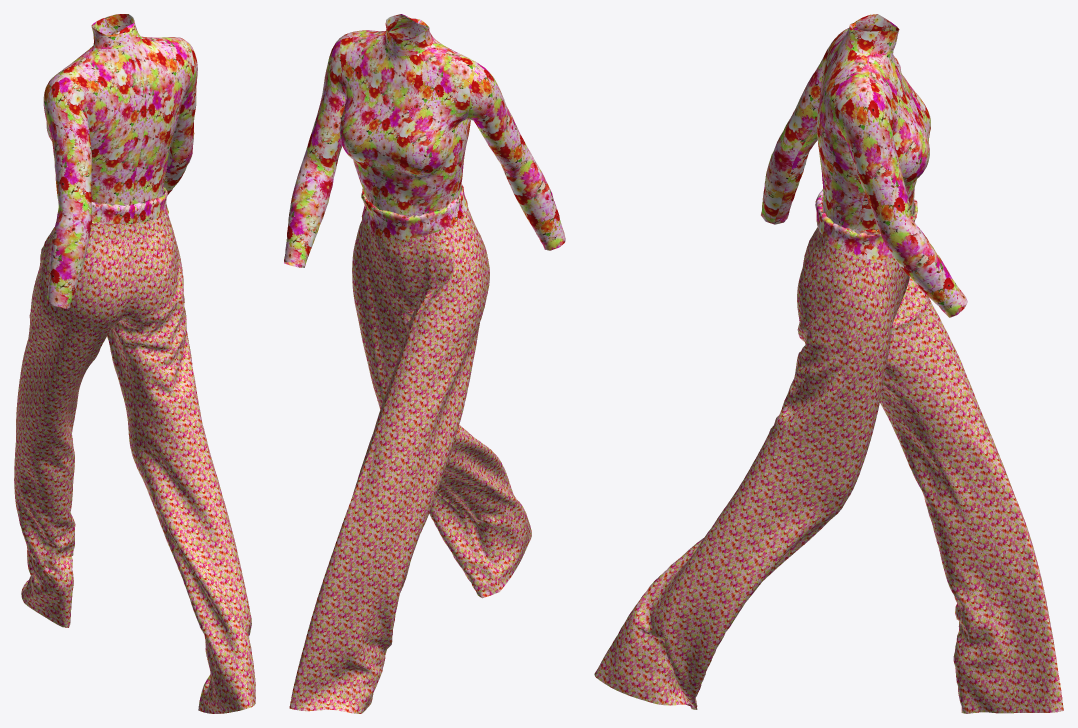
The model's file is DA_HighNeck+WidePants_0000211.obj.
3 renders of one model, left to right at view 1: azimuth 30°, elevation 25°; view 2: azimuth 150°, elevation 25°; view 3: azimuth 270°, elevation 25°, orthographic. The views are drawn at different scales.
Size of the model in its own units: 0.5287 by 1.6 by 0.9849.
